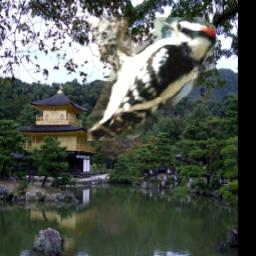Woodpecker: (87, 17, 216, 141)
